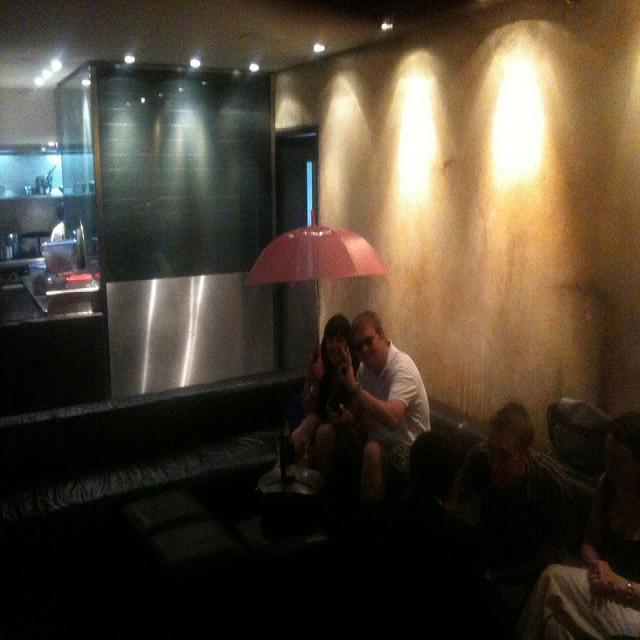Cup: (255, 420, 314, 489)
People: (388, 399, 476, 594), (480, 388, 561, 557), (586, 392, 640, 621), (358, 294, 422, 470), (297, 308, 352, 457)
